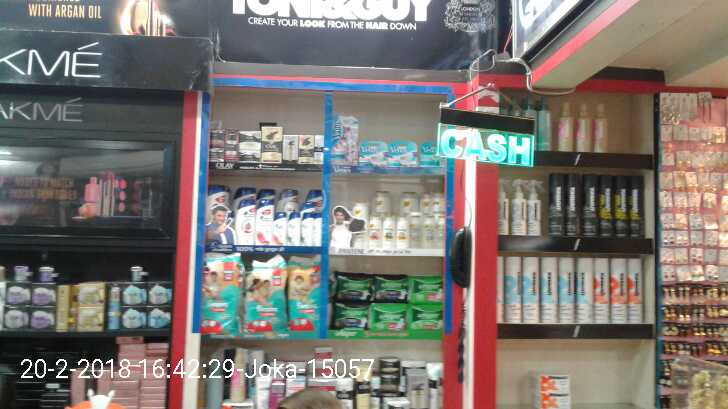venus: (334, 115, 358, 163), (388, 142, 418, 164), (358, 142, 387, 163), (420, 144, 439, 164)
